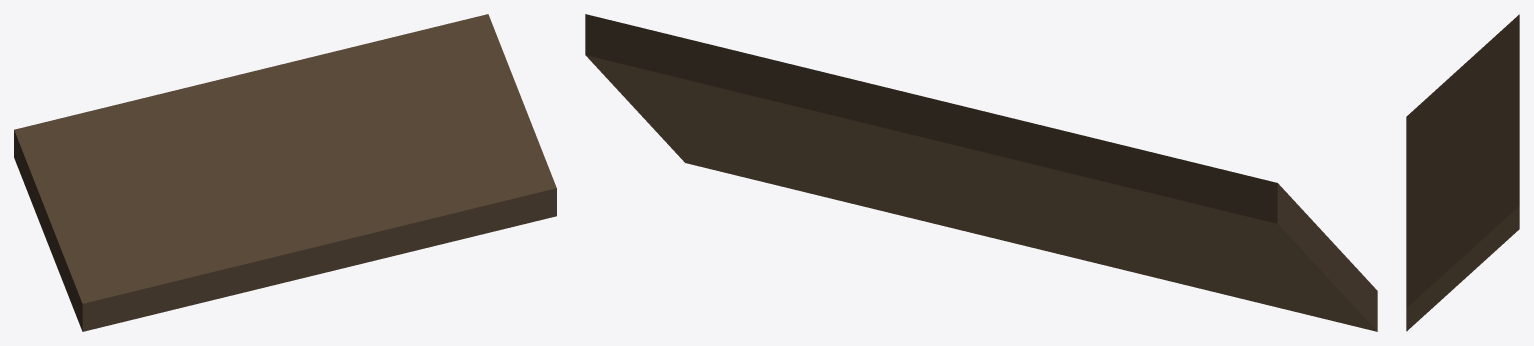
The model's file is dach_traufe.glb.
3 renders of one model, left to right at view 1: azimuth 30°, elevation 25°; view 2: azimuth 150°, elevation 25°; view 3: azimuth 270°, elevation 25°, orthographic. The views are drawn at different scales.
Parts seen in each view (by area): view 1: dach_traufe; view 2: dach_traufe; view 3: dach_traufe.
Part boxes in pixels (x1,y1,x2,y2): dach_traufe: [14, 14, 556, 331]; dach_traufe: [585, 14, 1377, 331]; dach_traufe: [1406, 14, 1519, 331].
Bounding box in the file's own units: 2 × 0.6131 × 0.5.
